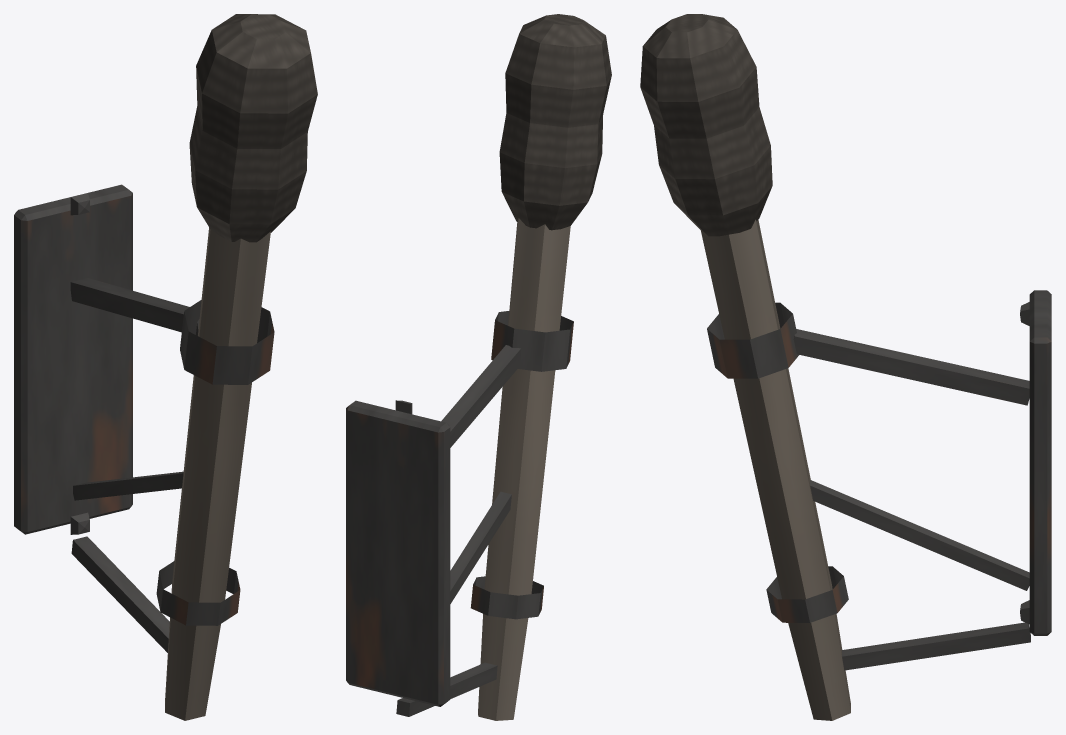
The model's file is torch_mounted.glb.
3 renders of one model, left to right at view 1: azimuth 30°, elevation 25°; view 2: azimuth 150°, elevation 25°; view 3: azimuth 270°, elevation 25°, orthographic. The views are drawn at different scales.
Parts seen in each view (by area): view 1: torch_mounted; view 2: torch_mounted; view 3: torch_mounted.
Part boxes in pixels (x1=…): torch_mounted: x1=14, y1=14, x2=317, y2=720; torch_mounted: x1=346, y1=14, x2=611, y2=720; torch_mounted: x1=640, y1=14, x2=1051, y2=720.
Size of what is drawn, in the model's own units: 0.11 by 0.6995 by 0.3751.
1 material, 1 textured.
